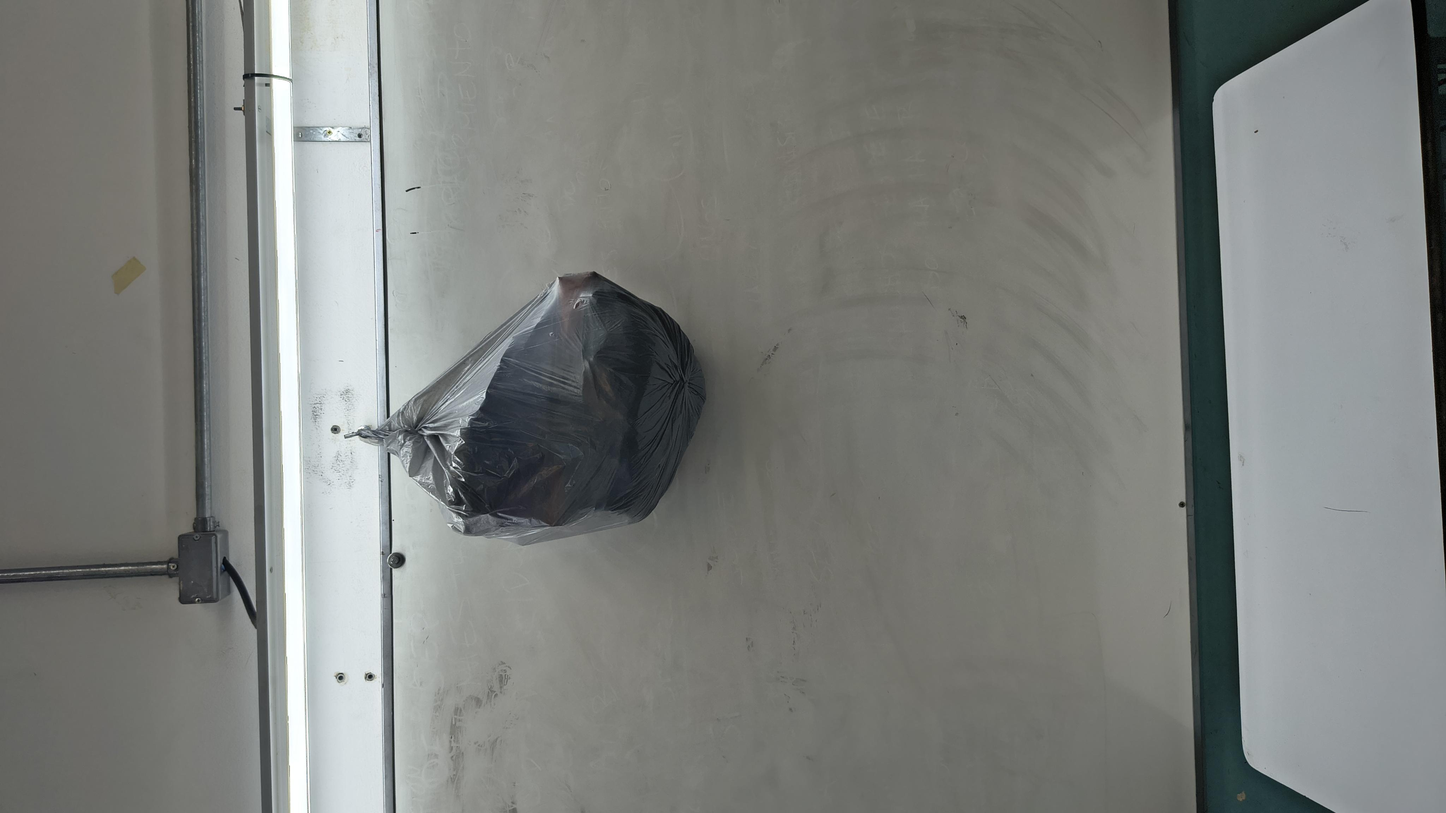Garbage: (383, 216, 1098, 419)
